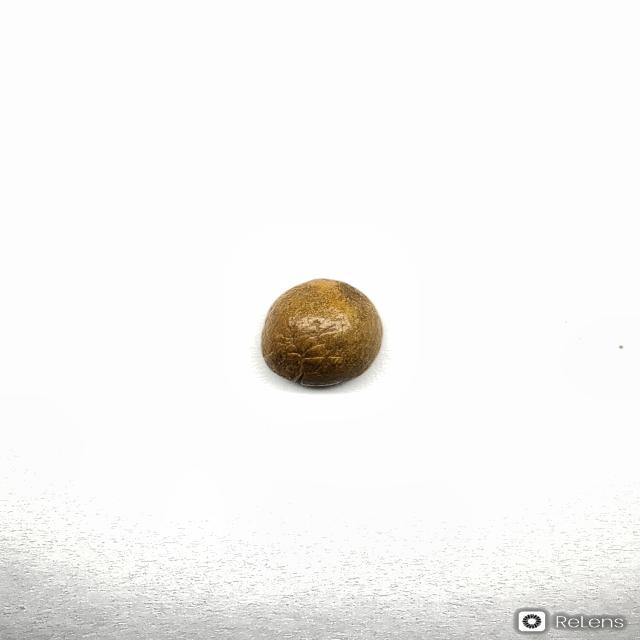Quaker: (259, 277, 384, 387)
